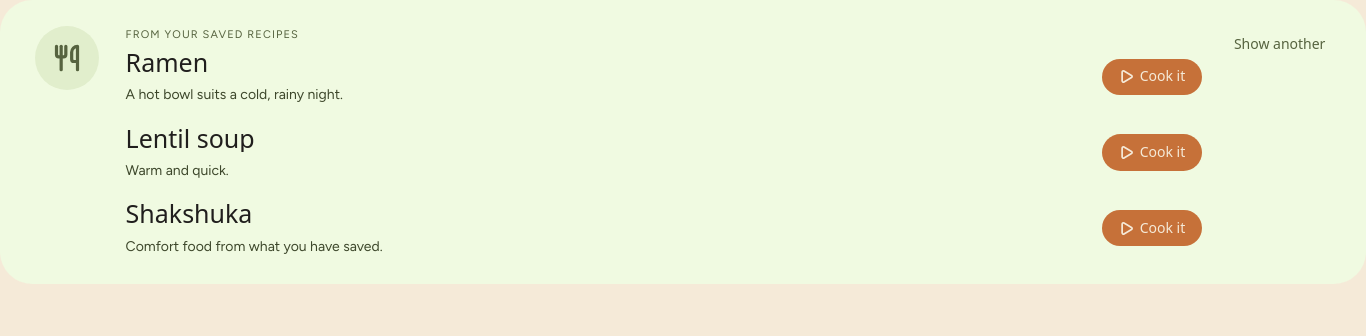
Test: HomeRecommendation › UI-18 UI-43 keeps the picks and says "No other suggestions right now" when the re-prompt answers 400
Check: the text "Ramen" is shown, box [126,48,208,76]
Step 1. Click the button "Show another" → (1280, 45), box [1228,26,1331,63]
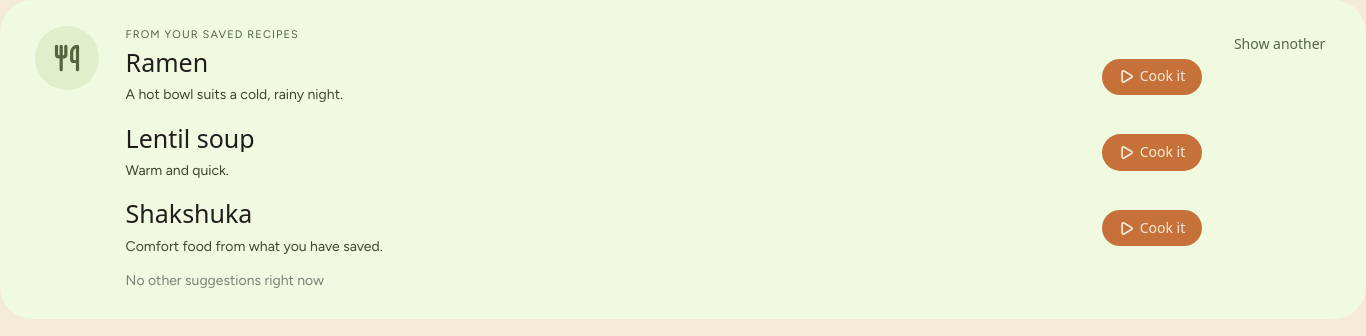
Check: the number of list items is 3, box [126,48,1202,106]; [126,124,1202,182]; [126,199,1202,257]
Check: the text "No other suggestions right now" is shown, box [126,272,324,289]
